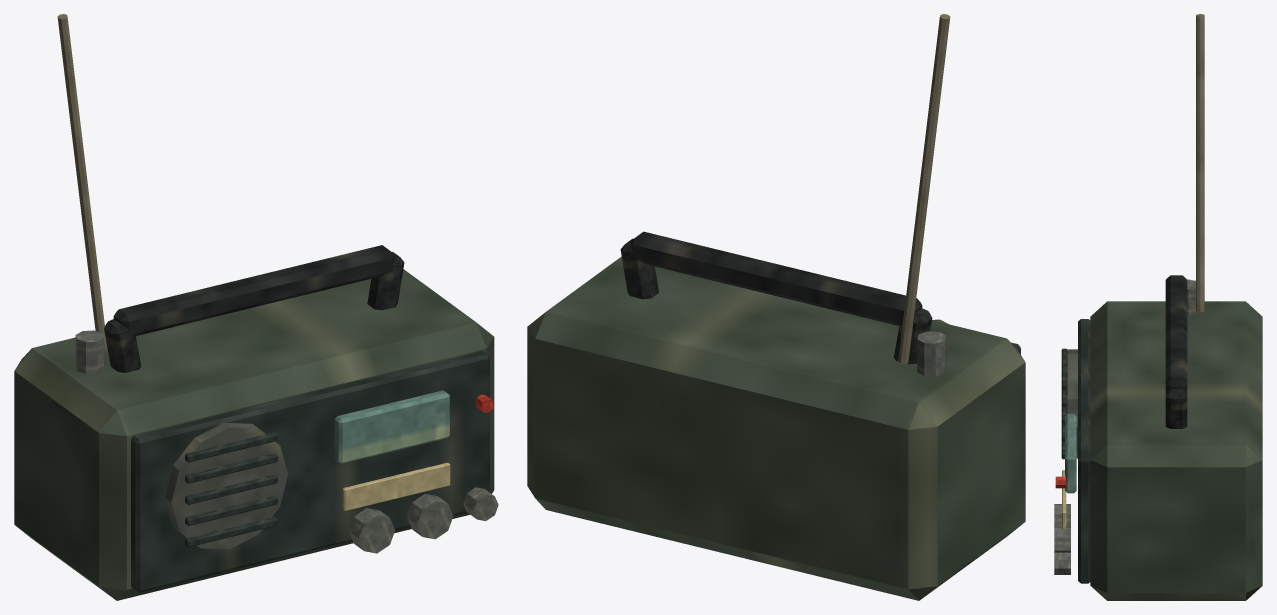
Rendered from SH_POC_FieldRadio.fbx.
The picture shows the model from 3 angles, left to right: view 1: azimuth 30°, elevation 25°; view 2: azimuth 150°, elevation 25°; view 3: azimuth 270°, elevation 25°; orthographic projection. The views are drawn at different scales.
Parts seen in each view (by area): view 1: SH_POC_FieldRadio; view 2: SH_POC_FieldRadio; view 3: SH_POC_FieldRadio.
Boxes of the visible parts, <box> form: SH_POC_FieldRadio: <box>14,14,498,600</box>; SH_POC_FieldRadio: <box>527,14,1025,600</box>; SH_POC_FieldRadio: <box>1054,14,1262,600</box>.
Size of the model in its own units: 0.78 by 1.02 by 0.4355.
1 material, 1 textured.
